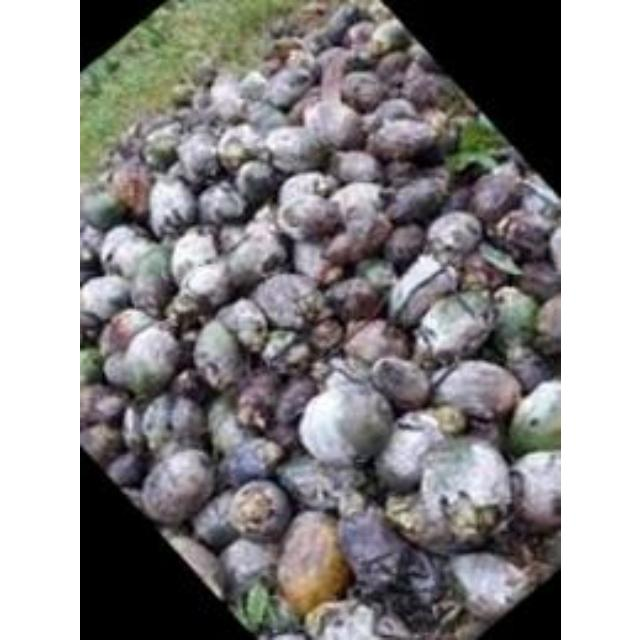damaged: (412, 437, 511, 541), (296, 375, 390, 467), (273, 510, 349, 616), (334, 505, 412, 593), (411, 291, 495, 365), (432, 358, 520, 424), (138, 447, 214, 523), (374, 410, 444, 490), (445, 548, 525, 618), (104, 325, 180, 397), (386, 253, 454, 325), (162, 528, 226, 602), (136, 392, 204, 454), (226, 478, 290, 540), (507, 379, 559, 455), (508, 452, 558, 530), (190, 316, 242, 389), (389, 546, 446, 612), (443, 118, 509, 174), (222, 227, 284, 286), (324, 182, 386, 240), (252, 271, 316, 327), (378, 594, 452, 640), (300, 99, 362, 153), (494, 207, 554, 261), (489, 287, 538, 353), (218, 438, 280, 490), (235, 582, 297, 634), (312, 600, 392, 640), (372, 356, 431, 410), (217, 538, 273, 594), (147, 177, 196, 240), (262, 124, 326, 172), (275, 192, 339, 240), (368, 116, 437, 160), (128, 248, 174, 314), (208, 395, 256, 457), (423, 210, 482, 260), (344, 319, 408, 365), (384, 176, 444, 224), (102, 226, 154, 280), (100, 308, 156, 357), (468, 169, 520, 221), (169, 228, 217, 282), (216, 299, 266, 349), (191, 494, 237, 548), (109, 161, 153, 217), (79, 276, 129, 324), (174, 132, 220, 182), (180, 262, 232, 306), (324, 352, 382, 391), (324, 276, 376, 318), (197, 182, 246, 226), (277, 172, 335, 208), (428, 604, 486, 640), (215, 125, 259, 171), (80, 384, 126, 428), (329, 148, 381, 186), (274, 379, 314, 427), (340, 69, 386, 109), (400, 70, 446, 110), (235, 160, 277, 203), (383, 223, 425, 265), (79, 188, 121, 230), (384, 492, 426, 534), (516, 180, 558, 222), (142, 122, 182, 166), (532, 293, 560, 355), (207, 74, 246, 118), (506, 350, 546, 392), (80, 422, 120, 464), (458, 254, 502, 292), (366, 18, 412, 54), (241, 213, 283, 251), (104, 450, 146, 488), (260, 329, 302, 367), (516, 262, 558, 300), (478, 243, 524, 277), (240, 370, 278, 410), (102, 352, 138, 392), (164, 292, 204, 328), (425, 404, 467, 438), (243, 98, 285, 132), (332, 484, 371, 520), (120, 404, 148, 454), (371, 96, 417, 125), (264, 36, 308, 66), (374, 51, 412, 83), (313, 44, 351, 76), (291, 1, 331, 31), (534, 526, 560, 572), (354, 258, 392, 288), (310, 316, 344, 349), (235, 70, 269, 102), (444, 113, 478, 145), (216, 222, 248, 254), (442, 182, 473, 214), (286, 92, 316, 125), (80, 222, 104, 262), (270, 422, 300, 454), (119, 484, 149, 516), (80, 348, 104, 386), (344, 21, 376, 49), (80, 309, 106, 343), (407, 45, 438, 73), (252, 202, 280, 230), (307, 358, 335, 386), (382, 158, 413, 182), (190, 89, 216, 115), (317, 264, 345, 288), (79, 263, 101, 293), (170, 82, 197, 106), (80, 244, 100, 276), (366, 2, 394, 24), (267, 16, 291, 40), (474, 112, 498, 136), (192, 64, 218, 86), (104, 58, 118, 74)
